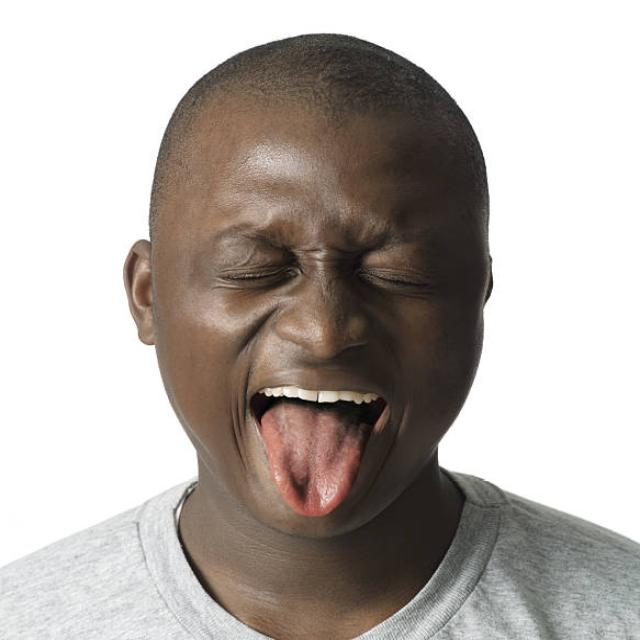tongue: (253, 399, 380, 519)
